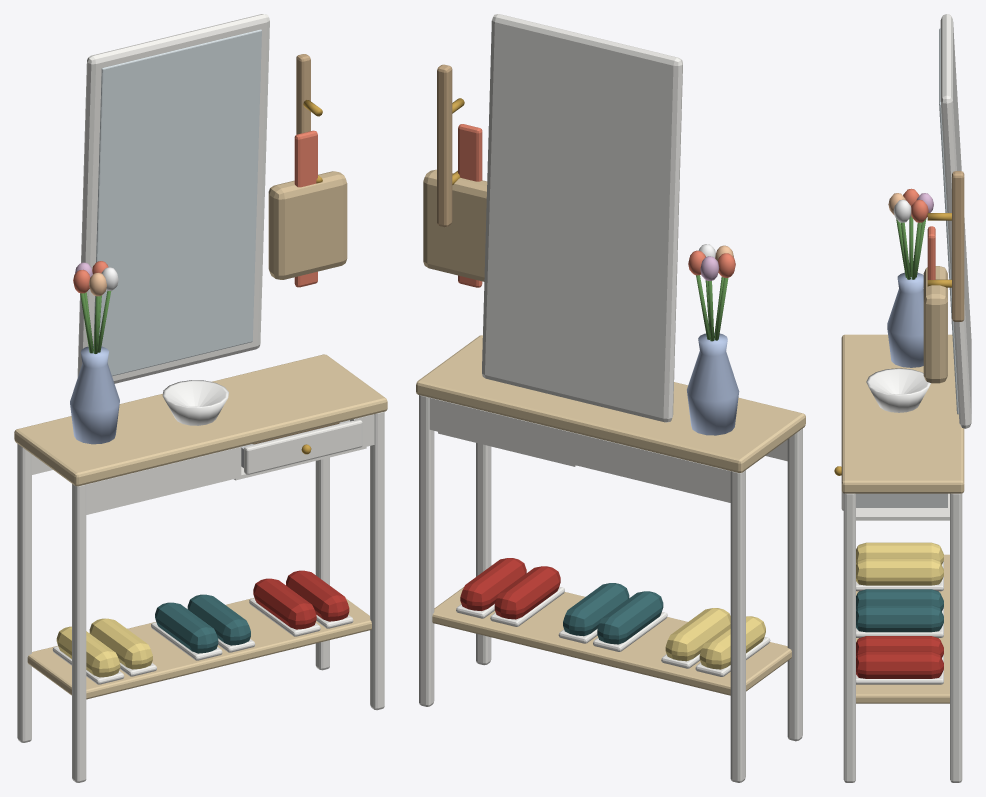
Rendered from entryConsole.glb.
3 renders of one model, left to right at view 1: azimuth 30°, elevation 25°; view 2: azimuth 150°, elevation 25°; view 3: azimuth 270°, elevation 25°, orthographic. The views are drawn at different scales.
Parts seen in each view (by area): view 1: body, drawer; view 2: body; view 3: body, drawer.
Part boxes in pixels (<box>): body: <box>14,14,387,782</box>; drawer: <box>241,420,362,474</box>; body: <box>416,14,805,782</box>; body: <box>841,14,971,782</box>; drawer: <box>834,466,947,510</box>.
Bounding box in the file's own units: 0.87 × 1.77 × 0.3357.
